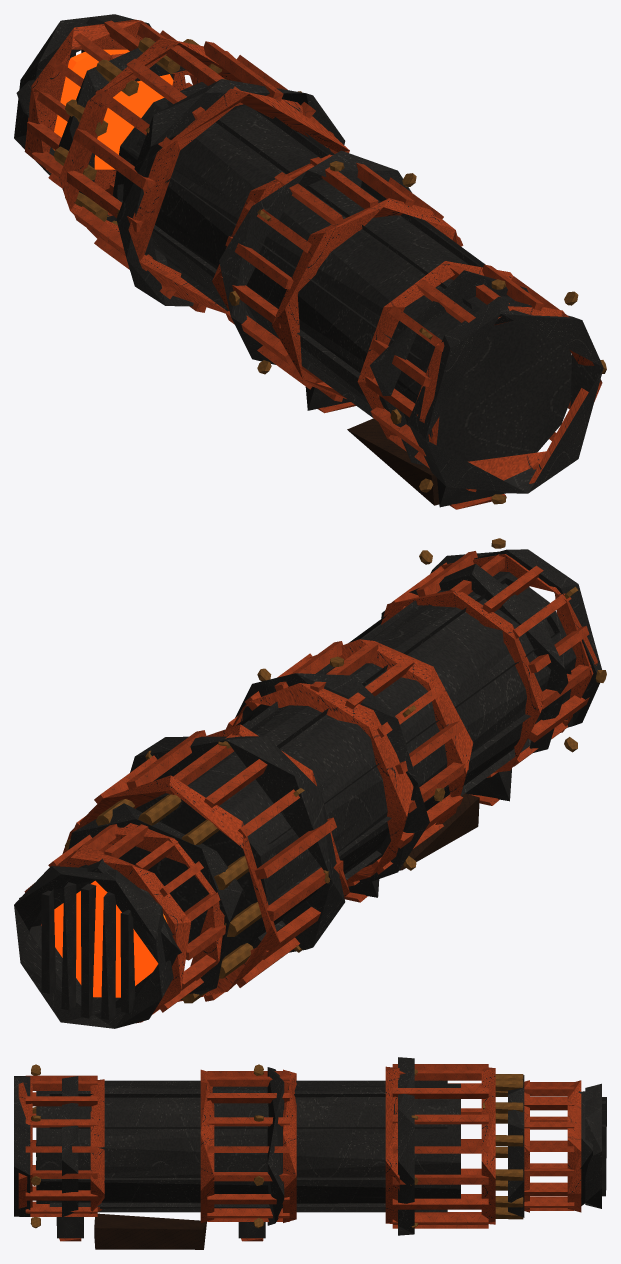
File: kiln-focus-ready-lod2.glb
3 views of the same model, one above another, from view 1: azimuth 30°, elevation 25°; view 2: azimuth 150°, elevation 25°; view 3: azimuth 270°, elevation 25° (orthographic). The views are drawn at different scales.
Visible parts, largest first — view 1: Forged barrel core, Machined barrel rim, Ceramic vent header, Machined barrel rim.003, Machined barrel rim.002, Ceramic vent header.003, Ceramic vent footer.001, Ceramic vent footer, Ceramic vent header.002, Machined barrel rim.001, Banked ember recessed chamber, Ceramic vent footer.002 (+28 smaller); view 2: Forged barrel core, Machined barrel rim.003, Muzzle lip, Ceramic vent footer.003, Ceramic vent footer, Machined barrel rim.002, Machined barrel rim.001, Machined barrel rim.004, Ceramic vent footer.002, Ceramic vent header.003, Ceramic vent footer.001, Banked ember recessed chamber (+37 smaller); view 3: Forged barrel core, Insulated palm grip, Machined barrel rim.003, Longitudinal iron stave.001, Machined barrel rim.002, Ceramic vent footer, Ceramic vent header.003, Ceramic vent header, Machined barrel rim.001, Muzzle lip, Machined barrel rim, Ceramic vent footer.003 (+51 smaller).
Part boxes in pixels (x1,y1,x2,y2): Forged barrel core: (112,82,571,461); Machined barrel rim: (408,296,603,493); Ceramic vent header: (128,88,349,313); Machined barrel rim.003: (116,79,345,306); Machined barrel rim.002: (219,150,411,364); Ceramic vent header.003: (271,198,459,398); Ceramic vent footer.001: (24,19,185,189); Ceramic vent footer: (59,37,242,238); Ceramic vent header.002: (416,304,602,483); Machined barrel rim.001: (370,270,528,466); Banked ember recessed chamber: (53,49,173,169); Ceramic vent footer.002: (357,261,513,440); Forged barrel core: (112,571,576,956); Machined barrel rim.003: (130,736,345,952); Muzzle lip: (14,866,173,1028); Ceramic vent footer.003: (232,683,413,883); Ceramic vent footer: (62,775,280,1001); Machined barrel rim.002: (235,673,429,889); Machined barrel rim.001: (381,563,568,753); Machined barrel rim.004: (68,803,242,1000); Ceramic vent footer.002: (381,590,544,772); Ceramic vent header.003: (308,639,473,824); Ceramic vent footer.001: (24,844,191,1023); Banked ember recessed chamber: (54,880,167,997); Forged barrel core: (36,1083,460,1208); Insulated palm grip: (94,1213,206,1249); Machined barrel rim.003: (398,1057,414,1235); Longitudinal iron stave.001: (49,1127,447,1140); Machined barrel rim.002: (267,1067,284,1225); Ceramic vent footer: (481,1067,495,1224); Ceramic vent header.003: (200,1069,214,1222); Ceramic vent header: (385,1066,399,1223); Machined barrel rim.001: (62,1076,78,1217); Muzzle lip: (585,1083,601,1208); Machined barrel rim: (14,1076,30,1216); Ceramic vent footer.003: (283,1069,296,1222).
Size of the model in its own units: 0.2539 by 0.2815 by 0.8645.
Materials: 5 (4 with a texture image).
